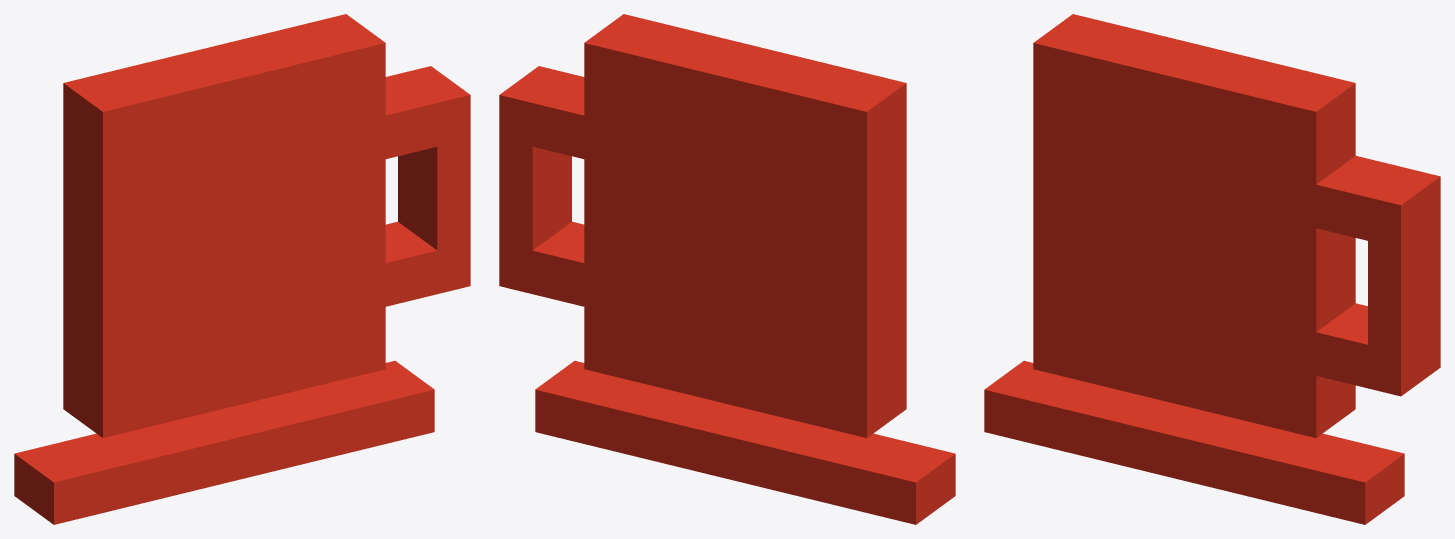
File: Icon_Coffee_02.fbx
3 views of the same model, side by side, from view 1: azimuth 30°, elevation 25°; view 2: azimuth 150°, elevation 25°; view 3: azimuth 330°, elevation 25° (orthographic).
Visible parts, largest first — view 1: Icon_Coffee_02; view 2: Icon_Coffee_02; view 3: Icon_Coffee_02.
Boxes of the visible parts, bbox=[...] form: Icon_Coffee_02: bbox=[14, 14, 470, 524]; Icon_Coffee_02: bbox=[499, 14, 955, 524]; Icon_Coffee_02: bbox=[984, 14, 1440, 524].
Size of the model in its own units: 73.37 by 67.48 by 12.06.
